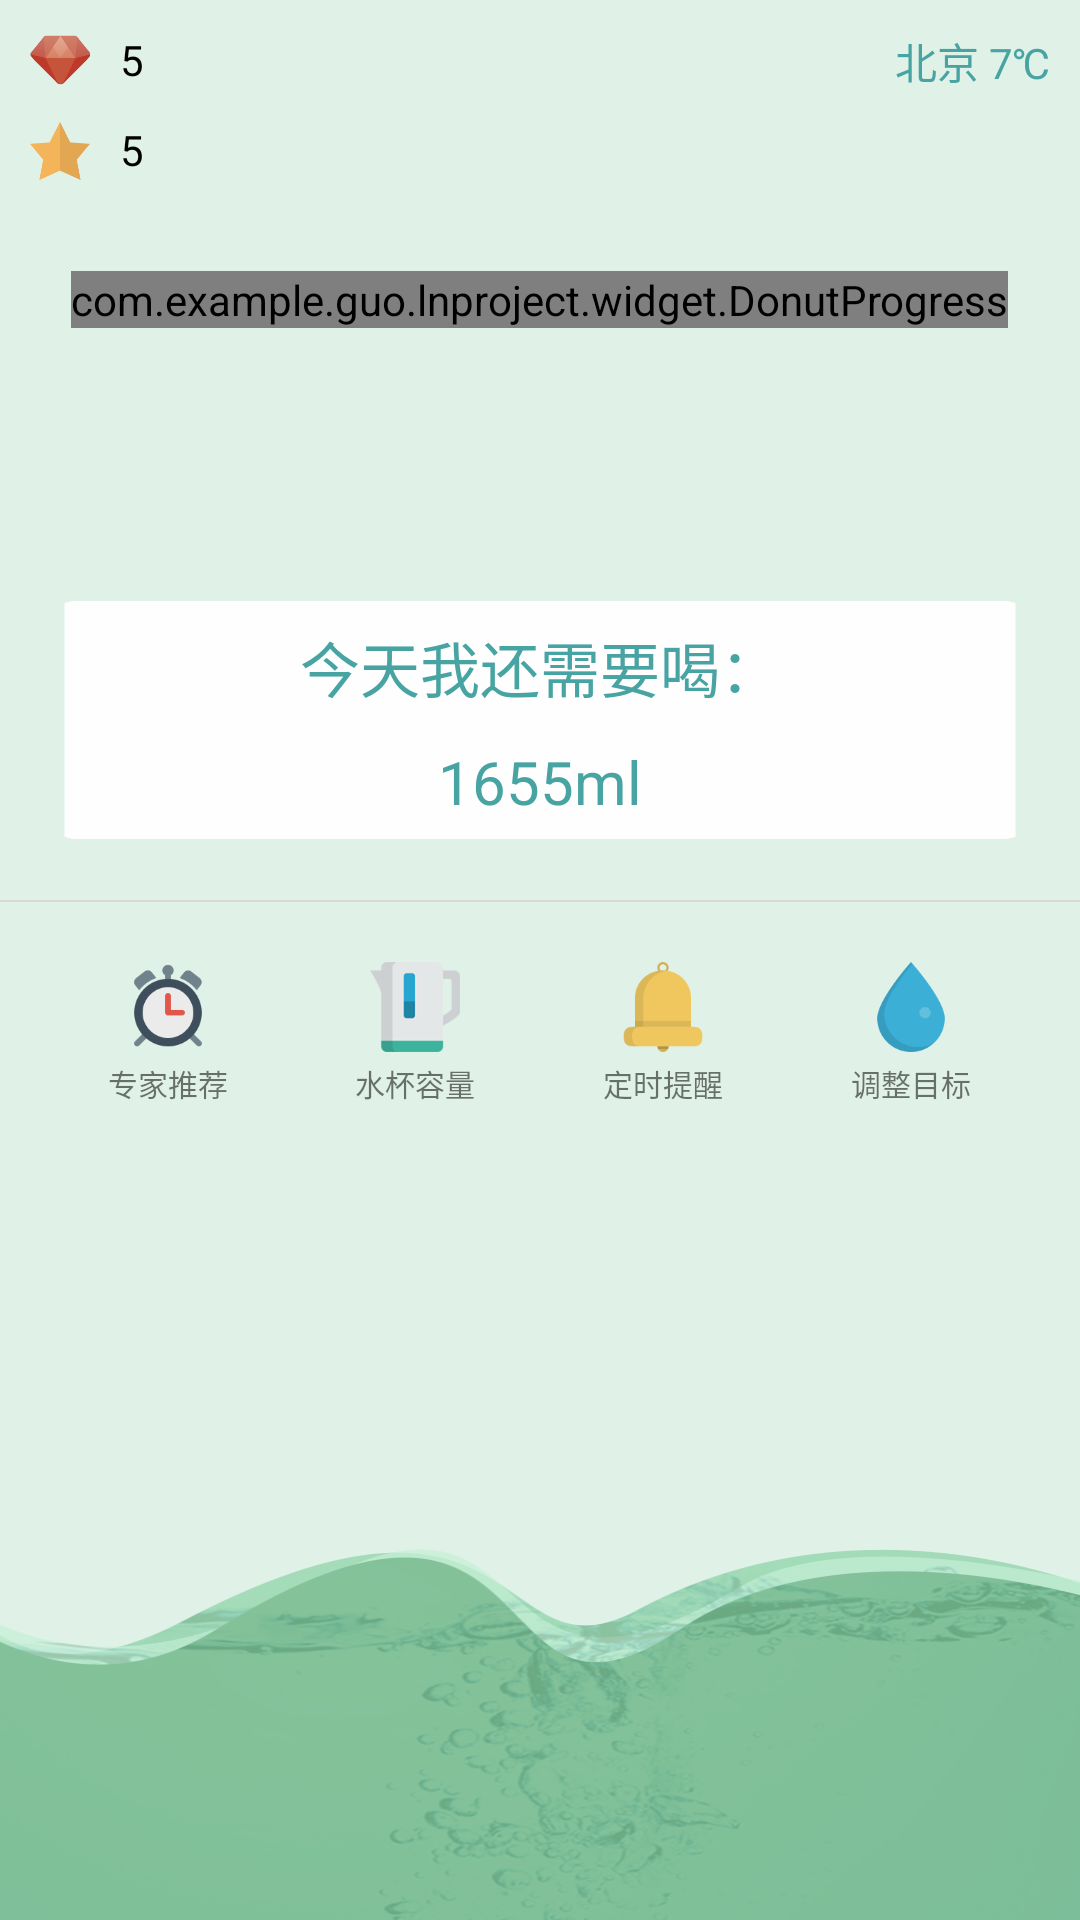

Screen size 1080w x 1920h. Icon name, then its box in pixels as region(x1, y1, x2, y2):
drawermenu clock: region(134, 965, 202, 1047)
drawermenu drop: region(877, 962, 945, 1052)
